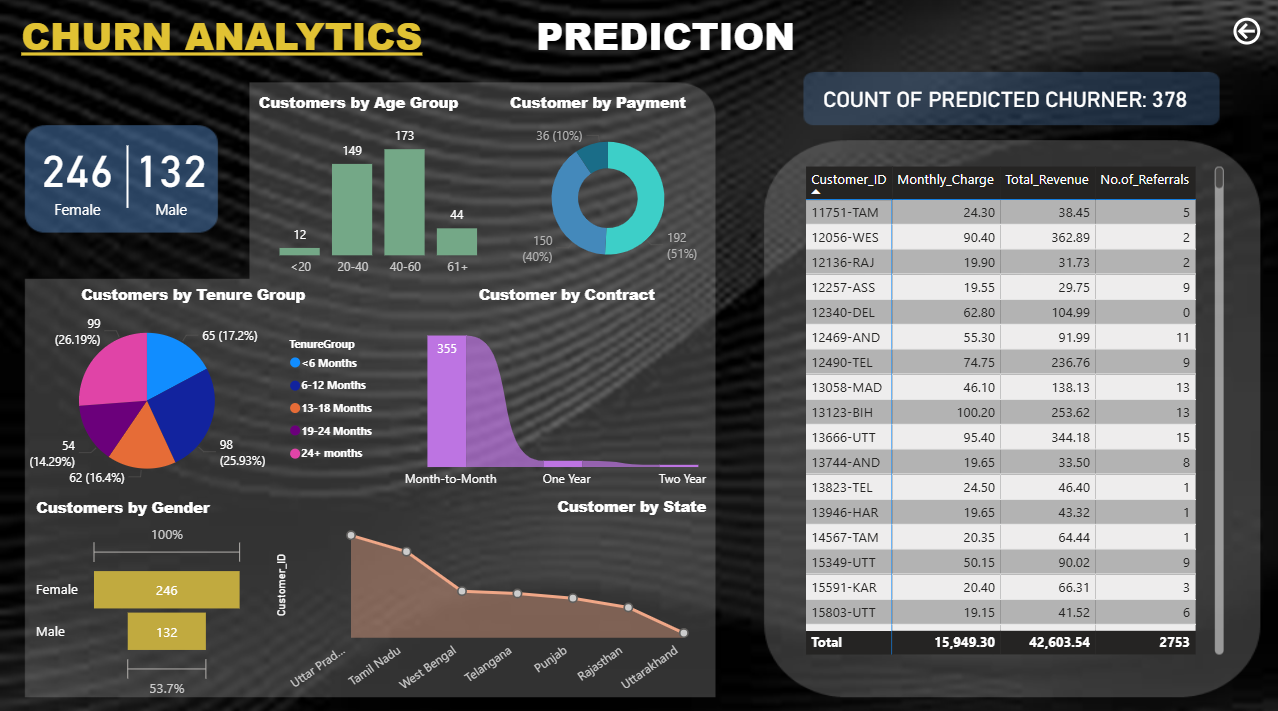

This screenshot's page, from the dashboard's own definition file:
{"tool":"powerbi","page":{"name":"Prediction_Page","canvas":[1280,720],"ordinal":1},"visuals":[{"type":"actionButton","box":[1228.8,15,37.5,36.2],"z":0},{"type":"textbox","box":[16.2,0,998.8,77.5],"z":1000},{"type":"pivotTable","fields":{"Rows":["prediciton.Customer_ID"],"Values":["Sum(prediciton.Monthly_Charge)","Sum(prediciton.Total_Revenue)","Sum(prediciton.Number_of_Referrals)"]},"box":[801.2,163.8,427.5,497.5],"z":2000},{"type":"card","fields":{"Values":["MeasureTable.Title predicted churner"]},"box":[812.9,77.1,385.7,47.1],"z":3000},{"type":"card","fields":{"Values":["MeasureTable.Total Prediction Churners"]},"box":[28.8,133.8,97.5,88.8],"z":4000},{"type":"card","fields":{"Values":["MeasureTable.Total Prediction Churners"]},"box":[128.8,133.8,85,88.8],"z":5000},{"type":"columnChart","title":"Customers by Age Group","fields":{"Y":["CountNonNull(prediciton.Customer_ID)"],"Category":["Mapping_Ages.AgeGroup"]},"box":[253.8,93.8,251.2,193.8],"z":6000},{"type":"donutChart","title":"Customer by Payment","fields":{"Category":["prediciton.Payment_Method"],"Y":["CountNonNull(prediciton.Customer_ID)"]},"box":[505,93.8,206.2,192.5],"z":7000},{"type":"funnel","title":"Customers by Gender","fields":{"Category":["prediciton.Gender"],"Y":["CountNonNull(prediciton.Customer_ID)"]},"box":[31.4,498.6,218.6,207.1],"z":8000},{"type":"ribbonChart","title":"Customer by Contract","fields":{"Y":["CountNonNull(prediciton.Customer_ID)"],"Category":["prediciton.Contract"]},"box":[376,286,381,213],"z":9000},{"type":"pieChart","title":"Customers by Tenure Group","fields":{"Category":["Mapping_TenureGroup.TenureGroup"],"Y":["CountNonNull(prediciton.Customer_ID)"]},"box":[0,286.2,386.2,212.5],"z":10000},{"type":"areaChart","title":"Customer by State","fields":{"Category":["prediciton.State"],"Y":["CountNonNull(prediciton.Customer_ID)"]},"box":[271.2,497.5,440,208.8],"z":11000},{"type":"shape","box":[120,147.5,15,62.5],"z":12000}]}

Visuals, with their boxes in screenshot pixels (x1, y1, x2, y2), scaled from the page's 1280x720 canvas onto the 1278x711 screenshot:
actionButton: Rect(1227, 15, 1264, 51)
textbox: Rect(16, 0, 1013, 77)
pivotTable - prediciton.Customer_ID x Sum(prediciton.Monthly_Charge): Rect(800, 162, 1227, 653)
card - MeasureTable.Title predicted churner: Rect(812, 76, 1197, 123)
card - MeasureTable.Total Prediction Churners: Rect(29, 132, 126, 220)
card - MeasureTable.Total Prediction Churners: Rect(129, 132, 213, 220)
"Customers by Age Group" columnChart: Rect(253, 93, 504, 284)
"Customer by Payment" donutChart: Rect(504, 93, 710, 283)
"Customers by Gender" funnel: Rect(31, 492, 250, 697)
"Customer by Contract" ribbonChart: Rect(375, 282, 756, 493)
"Customers by Tenure Group" pieChart: Rect(0, 283, 386, 492)
"Customer by State" areaChart: Rect(271, 491, 710, 697)
shape: Rect(120, 146, 135, 207)
